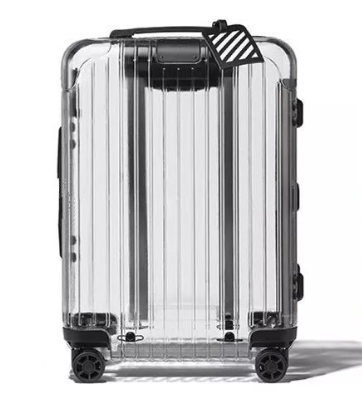box: (60, 38, 297, 365)
handle: (110, 27, 235, 39)
wheel: (255, 347, 289, 383), (71, 349, 106, 383)
